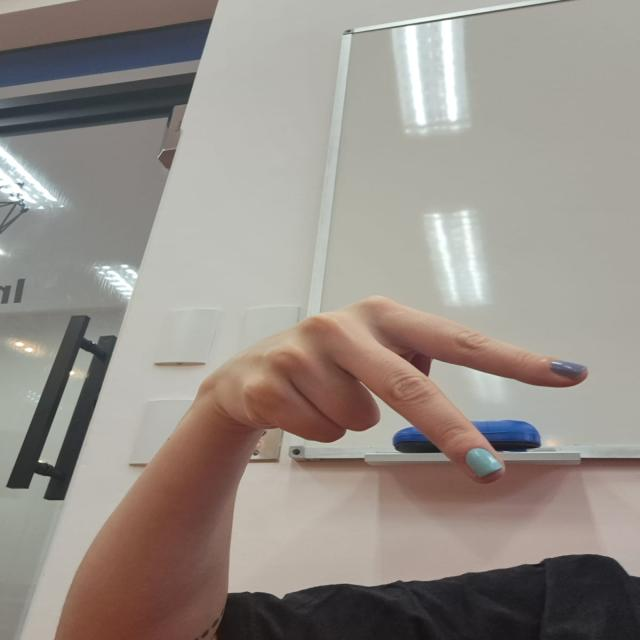P: (198, 288, 598, 486)
